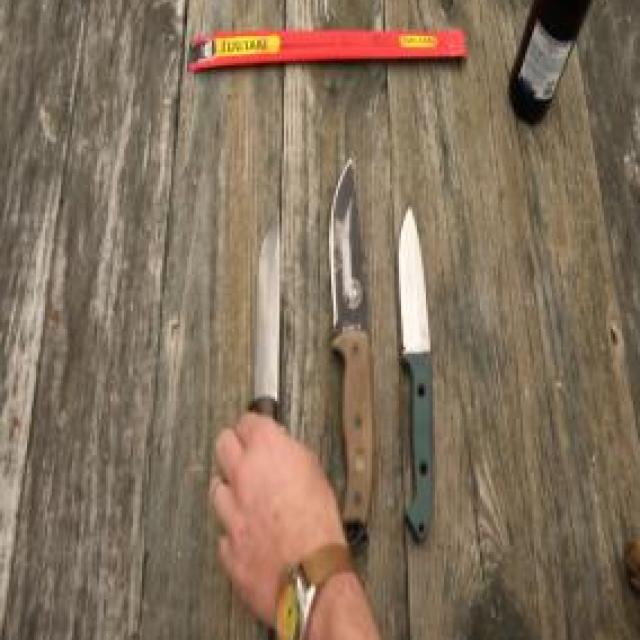knife: (200, 187, 300, 504), (320, 142, 382, 382), (392, 189, 442, 388)
